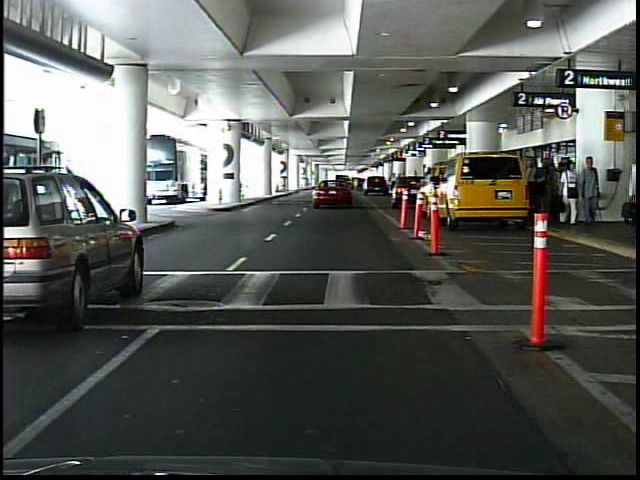person: (580, 155, 606, 225), (560, 156, 581, 227), (639, 155, 640, 245)
